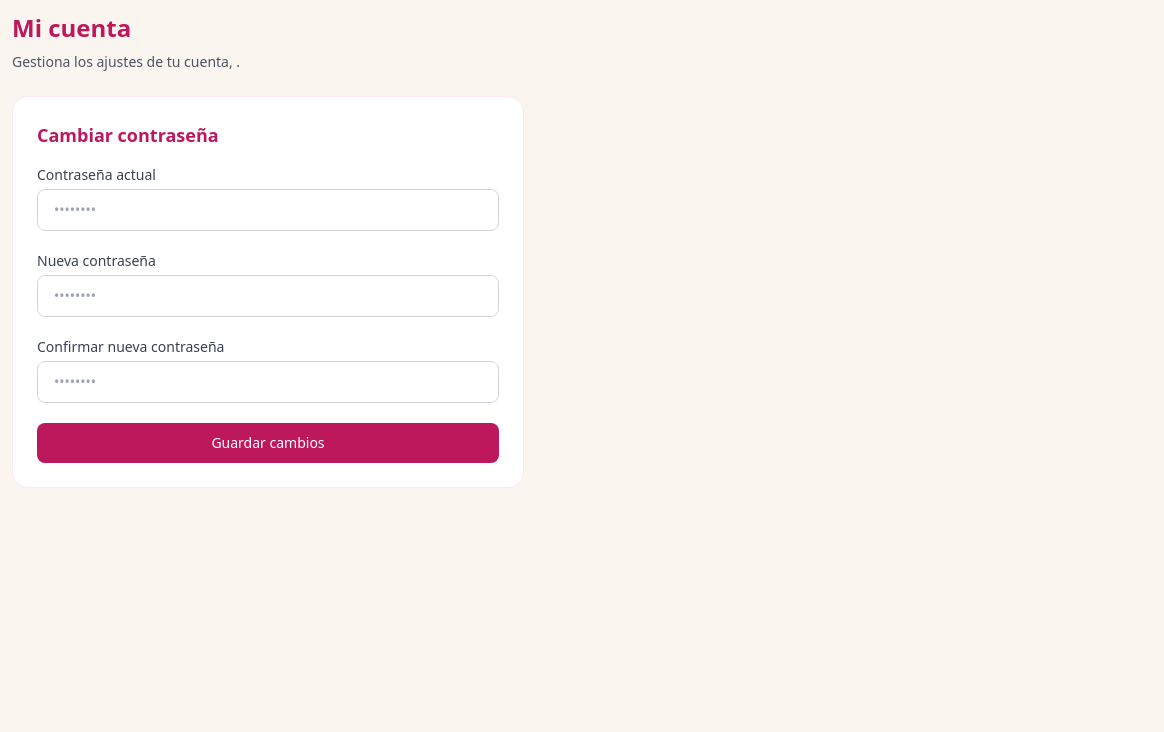
AccountPage › cambia la contraseña correctamente y limpia el formulario
This screenshot has width=1164, height=732.
In the password field labelled "Contraseña actual": (268,210) x1=37 y1=189 x2=499 y2=231, type "oldPass"
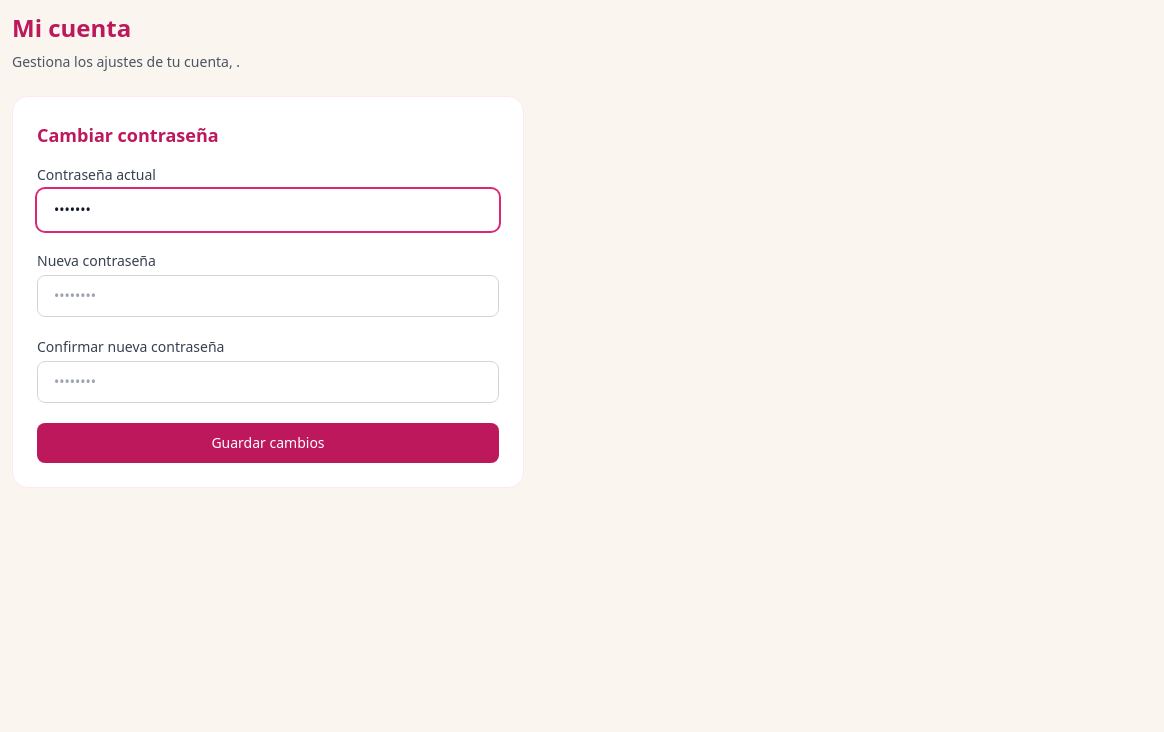
In the password field labelled "Nueva contraseña": (268,296) x1=37 y1=275 x2=499 y2=317, type "newPass1"
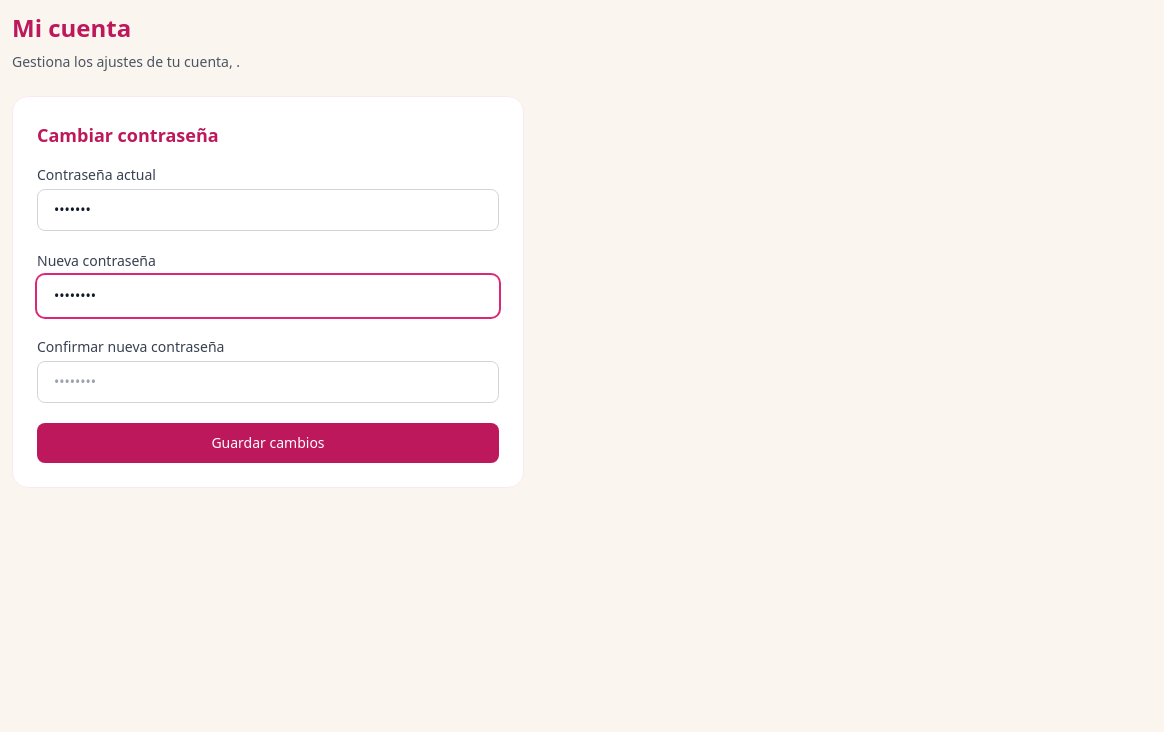
In the password field labelled "Confirmar nueva contraseña": (268,382) x1=37 y1=361 x2=499 y2=403, type "newPass1"
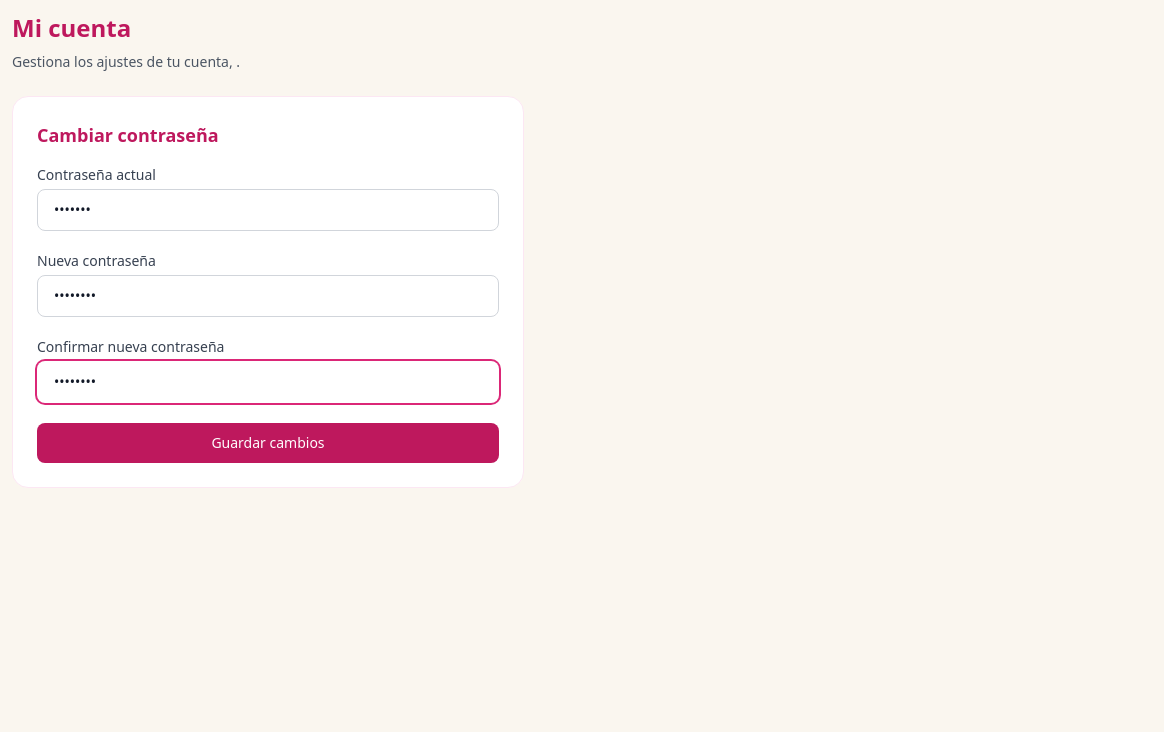
Click the button "Guardar cambios": (268,443) x1=37 y1=423 x2=499 y2=463
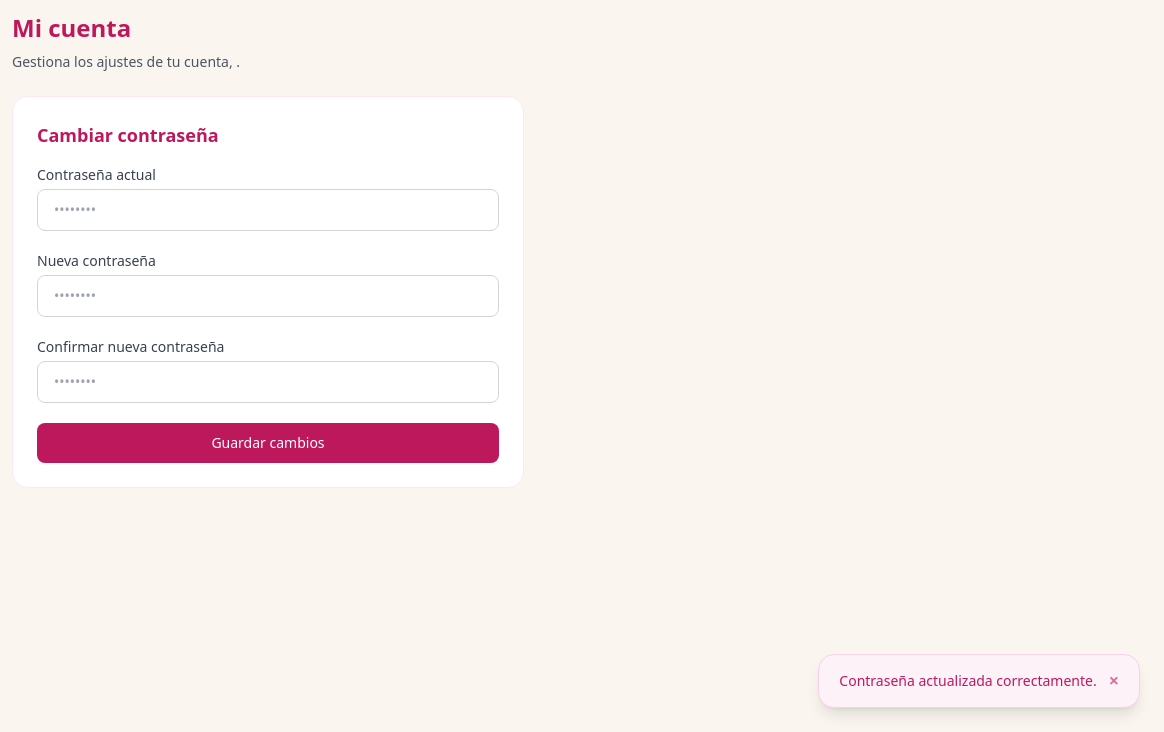
Now the text "Contraseña actualizada correctamente." is shown, box x1=839 y1=671 x2=1097 y2=691
Now the password field labelled "Nueva contraseña" is empty, box x1=37 y1=275 x2=499 y2=317
